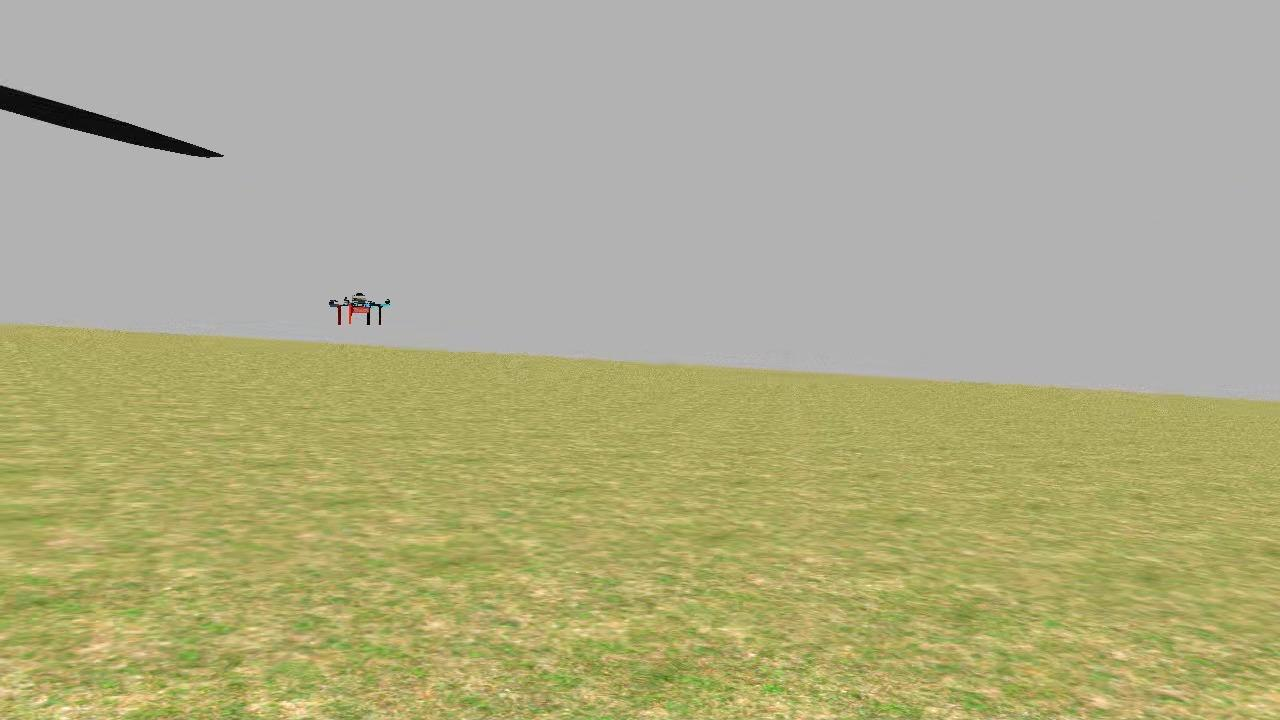UAV: (316, 284, 401, 336)
